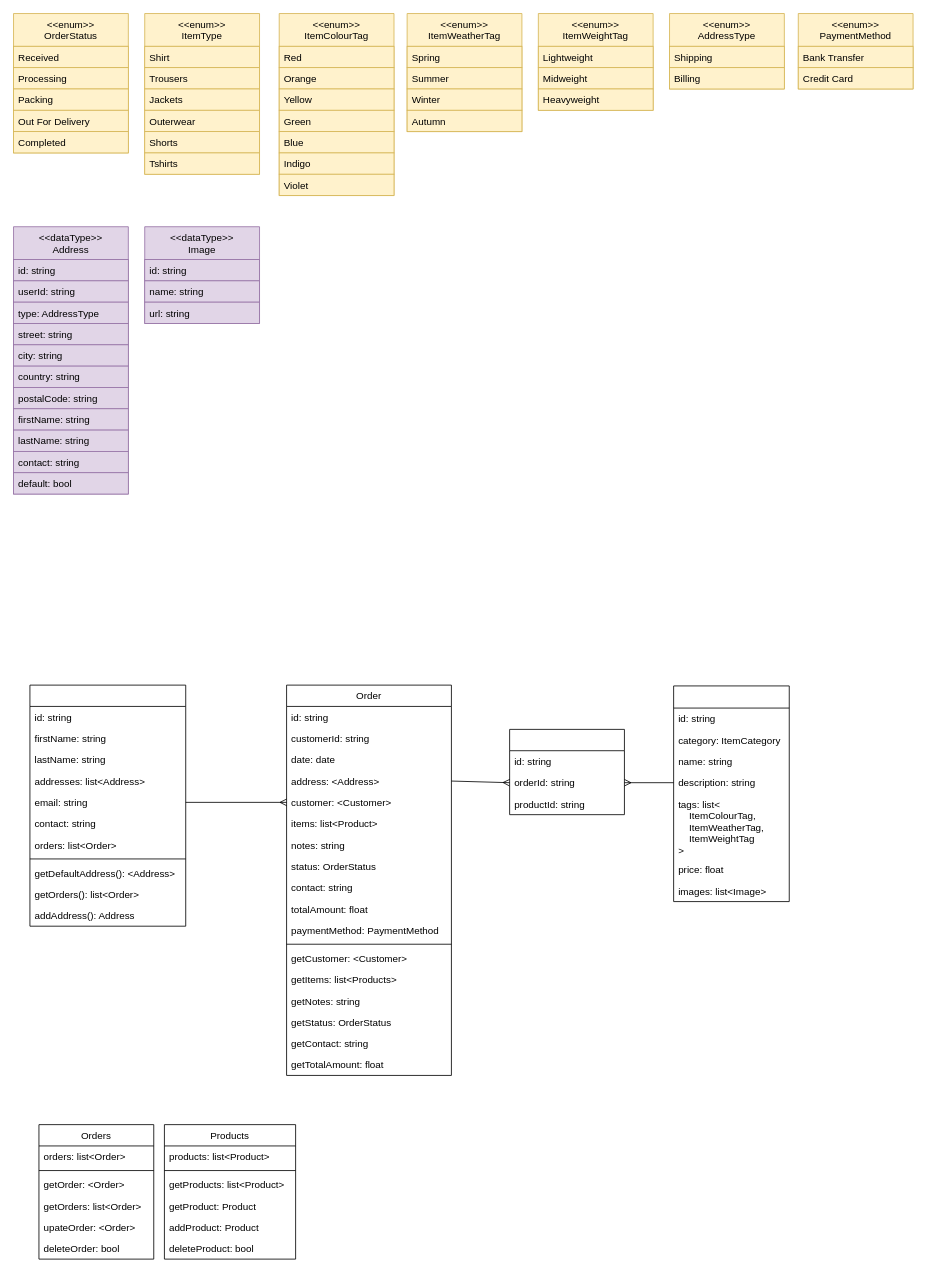
This 927x1273 diagram has some shape labels left out. Here are the shapes that lost their labels. From the top down, the box of each, then its label:
(509, 729, 624, 815): Order_Product
(29, 684, 186, 926): Customer
(673, 685, 789, 902): Product
